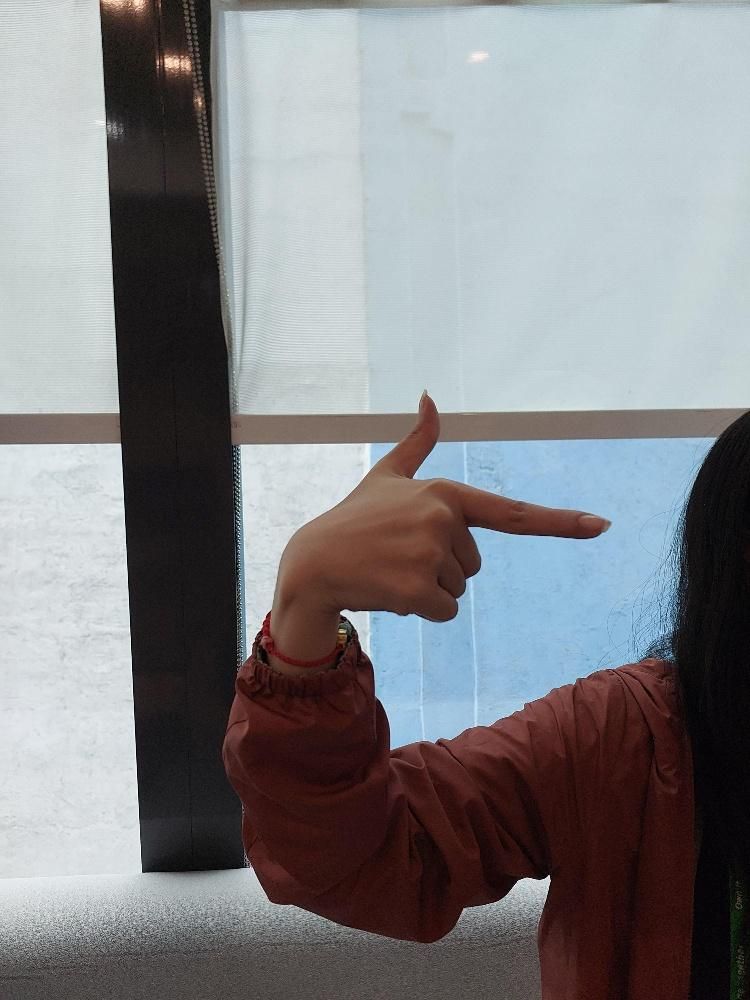g: (279, 394, 611, 626)
